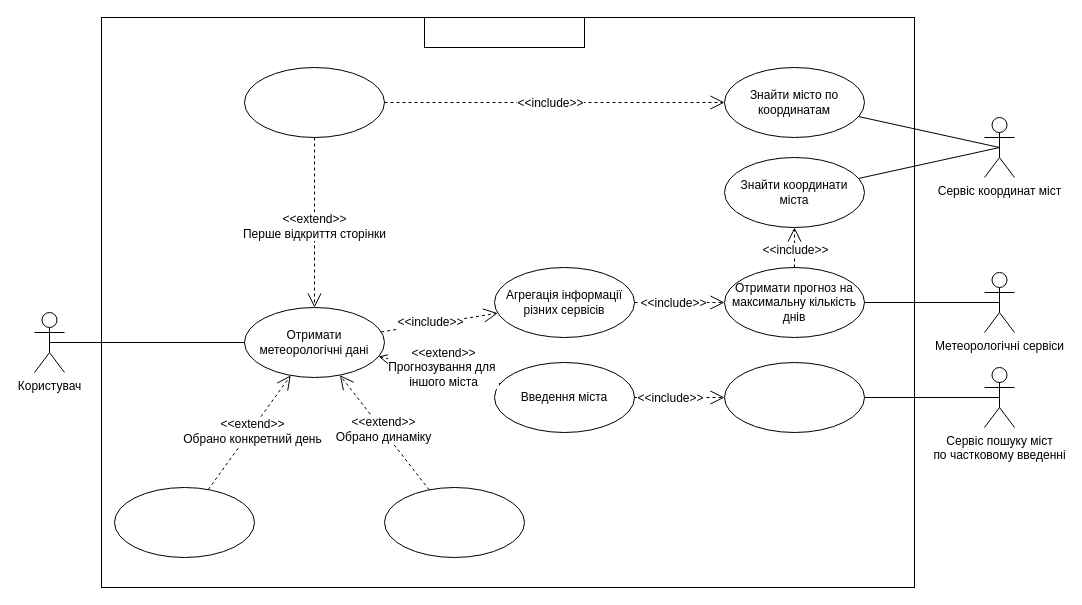
Some shapes in this 1082 by 605 pixel diagram are drawn without their labels. Here are the shapes that lost their labels. From the top down, the box of each, then its label:
(424, 16, 584, 48): Система агрегації погоди
(244, 66, 384, 138): Визначення міста
(724, 362, 864, 432): Знайти міста по частковому введенні
(114, 486, 254, 558): Отримання обширнішої інформації дня
(384, 486, 524, 558): Отримання динаміки прогнозу погоди
